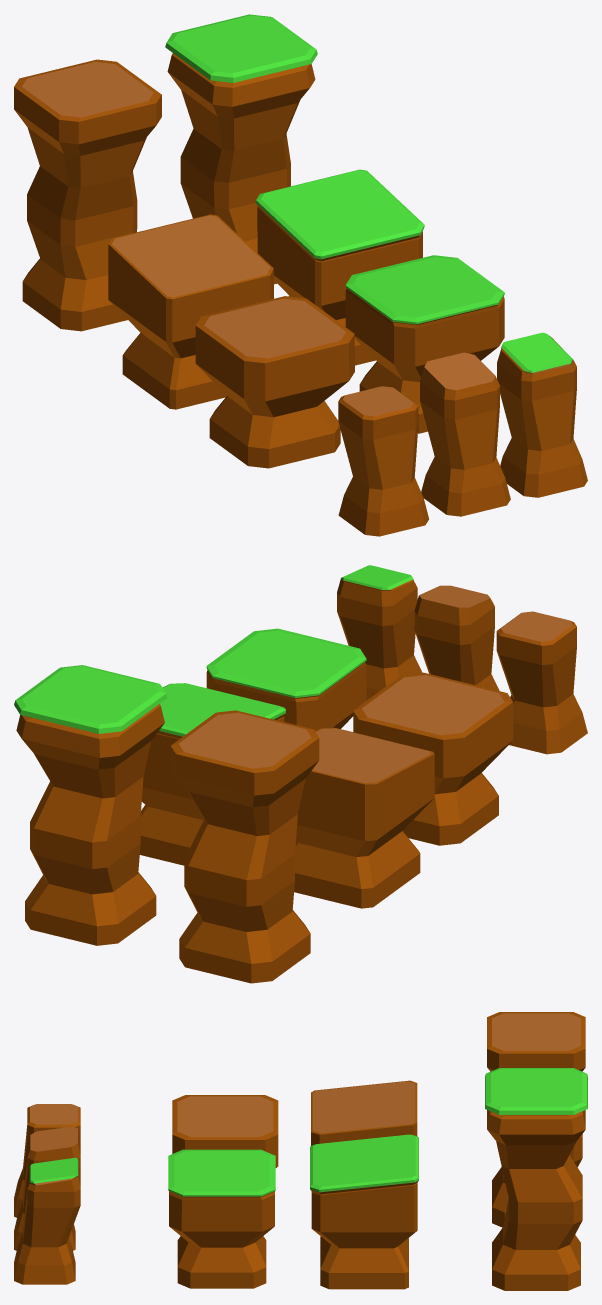
Rendered from platform_set.glb.
3 views of the same model, one above another, from view 1: azimuth 30°, elevation 25°; view 2: azimuth 150°, elevation 25°; view 3: azimuth 270°, elevation 25° (orthographic). The views are drawn at different scales.
Visible parts, largest first — view 1: Platform_Big, Platform_Big_grass, Platform_Medium, Platform_Medium_b, Platform_Medium_b_grass, Platform_Medium_grass, Platform_small_b, Platform_small_b_grass, Platform_small; view 2: Platform_Big_grass, Platform_Big, Platform_Medium_b, Platform_Medium, Platform_Medium_grass, Platform_small, Platform_Medium_b_grass, Platform_small_b_grass, Platform_small_b; view 3: Platform_Big_grass, Platform_Medium_b_grass, Platform_Medium_grass, Platform_small_b_grass, Platform_Big, Platform_Medium, Platform_Medium_b, Platform_small_b, Platform_small.
Boxes of the visible parts, x1,y1,x2,y2 form: Platform_Big: [14, 59, 161, 331]; Platform_Big_grass: [165, 14, 317, 284]; Platform_Medium: [195, 296, 354, 468]; Platform_Medium_b: [108, 214, 273, 409]; Platform_Medium_b_grass: [256, 169, 424, 365]; Platform_Medium_grass: [345, 255, 504, 433]; Platform_small_b: [420, 352, 510, 516]; Platform_small_b_grass: [497, 332, 587, 497]; Platform_small: [338, 386, 428, 536]; Platform_Big_grass: [14, 665, 167, 945]; Platform_Big: [170, 710, 319, 983]; Platform_Medium_b: [294, 727, 434, 908]; Platform_Medium: [353, 672, 513, 845]; Platform_Medium_grass: [206, 628, 366, 730]; Platform_small: [496, 611, 587, 754]; Platform_Medium_b_grass: [139, 683, 286, 865]; Platform_small_b_grass: [337, 565, 422, 700]; Platform_small_b: [414, 585, 499, 690]; Platform_Big_grass: [485, 1068, 587, 1290]; Platform_Medium_b_grass: [310, 1134, 418, 1289]; Platform_Medium_grass: [168, 1149, 275, 1288]; Platform_small_b_grass: [14, 1158, 80, 1284]; Platform_Big: [487, 1012, 585, 1227]; Platform_Medium: [172, 1095, 278, 1167]; Platform_Medium_b: [311, 1080, 417, 1145]; Platform_small_b: [14, 1126, 80, 1250]; Platform_small: [14, 1104, 80, 1217].
Size of the model in its own units: 2836 by 2289 by 6460.
